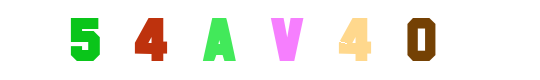0: (304, 0, 384, 80)
4: (174, 0, 254, 80), (247, 0, 327, 80)
5: (44, 0, 124, 80)
A: (232, 0, 312, 80)
V: (246, 0, 326, 80)
